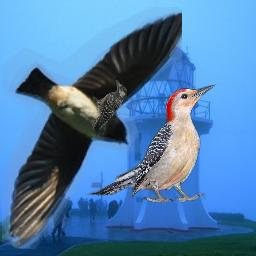Swallow: (2, 7, 182, 249)
Woodpecker: (86, 82, 219, 203), (92, 79, 127, 136)
